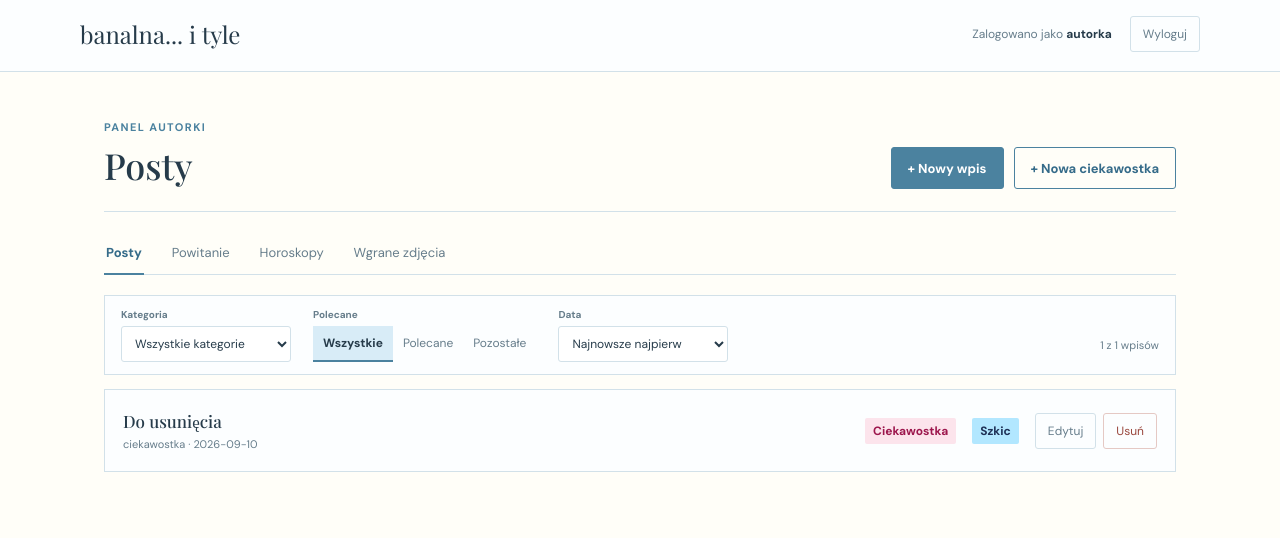
Test: AuthorDashboard › deletes a curiosity after confirmation
Click the button "Usuń" at (1130, 430), box top-left (1103, 412), bottom-right (1157, 448)
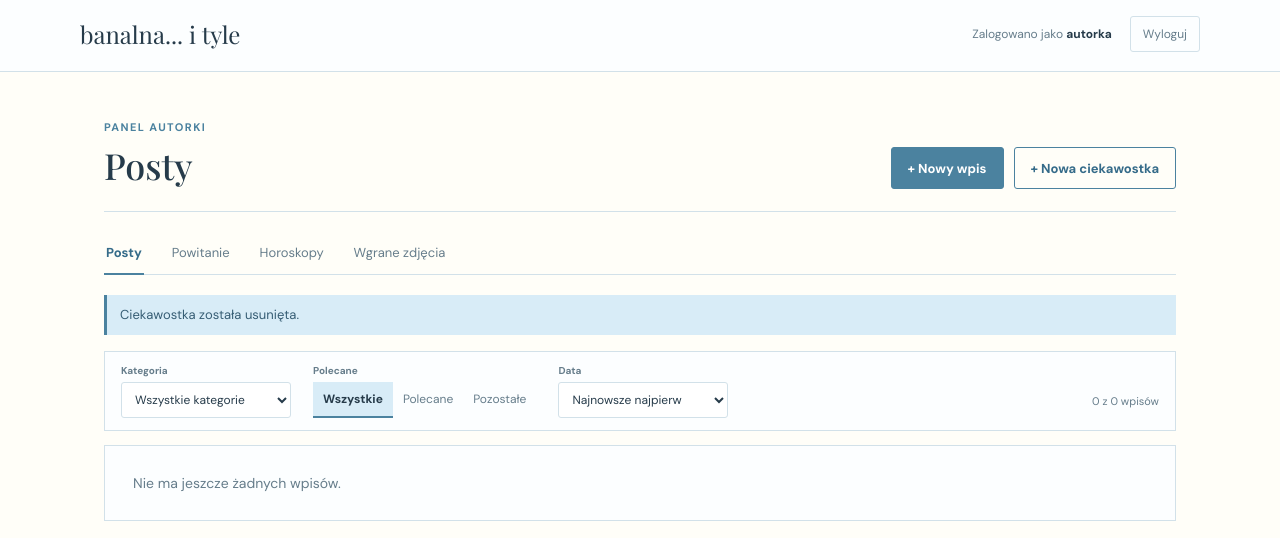
Now the heading "Do usunięcia" is gone
Now the text "Ciekawostka została usunięta." is shown, box top-left (104, 295), bottom-right (1176, 334)
